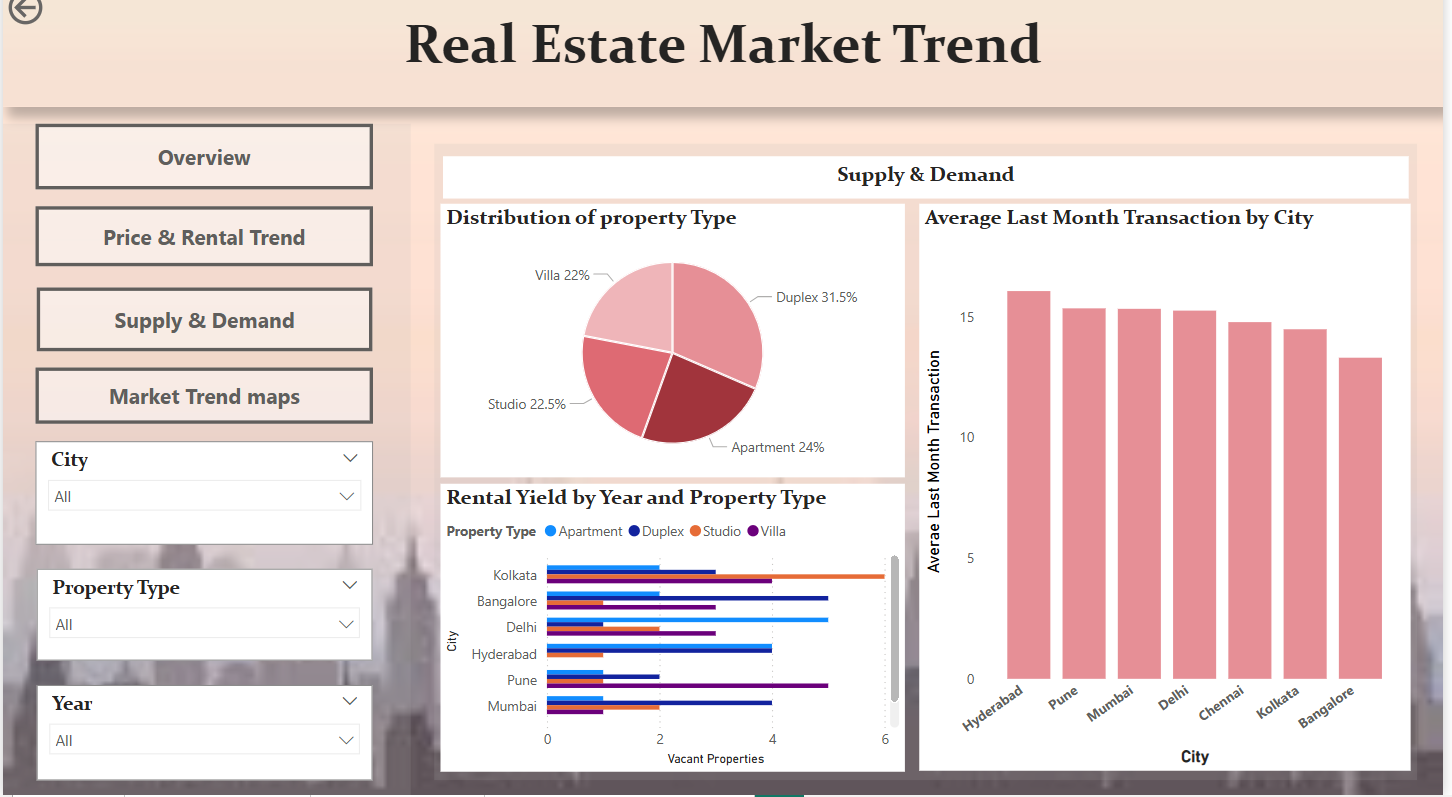

Layout of this report page (visuals, bound fields, positions):
{"tool":"powerbi","page":{"name":"Supply & Demand","canvas":[1280,720],"ordinal":2},"visuals":[{"type":"textbox","box":[0,123.5,362.3,596.9],"z":0},{"type":"actionButton","box":[0,0,100,40],"z":4000},{"type":"textbox","title":"Real Estate Market Trends","box":[0,0,1280.3,107.8],"z":5000},{"type":"textbox","box":[383,141,873.8,565.5],"z":6000},{"type":"textbox","box":[391.3,152.1,858.6,37.3],"z":7000},{"type":"pieChart","title":"Distribution of property Type","fields":{"Category":["real_estate_data.Property_Type"],"Y":["CountNonNull(real_estate_data.Property_ID)"]},"box":[388.6,194.3,412.9,243],"z":8000},{"type":"clusteredBarChart","title":"Rental Yield by Year and Property Type","fields":{"Category":["real_estate_data.City"],"Series":["real_estate_data.Property_Type"],"Y":["Sum(real_estate_data.Vacant)"]},"box":[388.6,442.9,412.9,255.7],"z":9000},{"type":"clusteredColumnChart","title":"Average Last Month Transaction by City","fields":{"Category":["real_estate_data.City"],"Y":["Calendar.AverageTransactionLastMonth"]},"box":[814.3,194.3,437.1,504.3],"z":10000},{"type":"slicer","fields":{"Values":["real_estate_data.City"]},"box":[28.3,405,300,91.7],"z":10001},{"type":"slicer","fields":{"Values":["real_estate_data.Property_Type"]},"box":[30,518.3,298.3,81.7],"z":10002},{"type":"slicer","fields":{"Values":["Calendar.Year"]},"box":[30,621.7,298.3,85],"z":10003},{"type":"actionButton","box":[28.3,123.3,300,58.3],"z":10004},{"type":"actionButton","box":[28.3,196.7,300,53.3],"z":10005},{"type":"actionButton","box":[30,268.3,298.3,56.7],"z":10006},{"type":"actionButton","box":[28.3,340,300,50],"z":10007}]}

Visuals, with their boxes in screenshot pixels (x1, y1, x2, y2), scaled from the page's 1280x720 canvas onto the 1452x797 screenshot:
textbox: <bbox>0, 137, 411, 796</bbox>
actionButton: <bbox>0, 0, 113, 44</bbox>
"Real Estate Market Trends" textbox: <bbox>0, 0, 1451, 119</bbox>
textbox: <bbox>434, 156, 1426, 782</bbox>
textbox: <bbox>444, 168, 1418, 210</bbox>
"Distribution of property Type" pieChart: <bbox>441, 215, 909, 484</bbox>
"Rental Yield by Year and Property Type" clusteredBarChart: <bbox>441, 490, 909, 773</bbox>
"Average Last Month Transaction by City" clusteredColumnChart: <bbox>924, 215, 1420, 773</bbox>
slicer - real_estate_data.City: <bbox>32, 448, 372, 550</bbox>
slicer - real_estate_data.Property_Type: <bbox>34, 574, 372, 664</bbox>
slicer - Calendar.Year: <bbox>34, 688, 372, 782</bbox>
actionButton: <bbox>32, 136, 372, 201</bbox>
actionButton: <bbox>32, 218, 372, 277</bbox>
actionButton: <bbox>34, 297, 372, 360</bbox>
actionButton: <bbox>32, 376, 372, 432</bbox>
